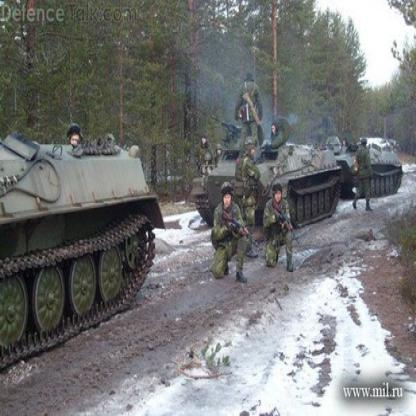MIL_IFV: (0, 124, 167, 372), (189, 120, 344, 233)
